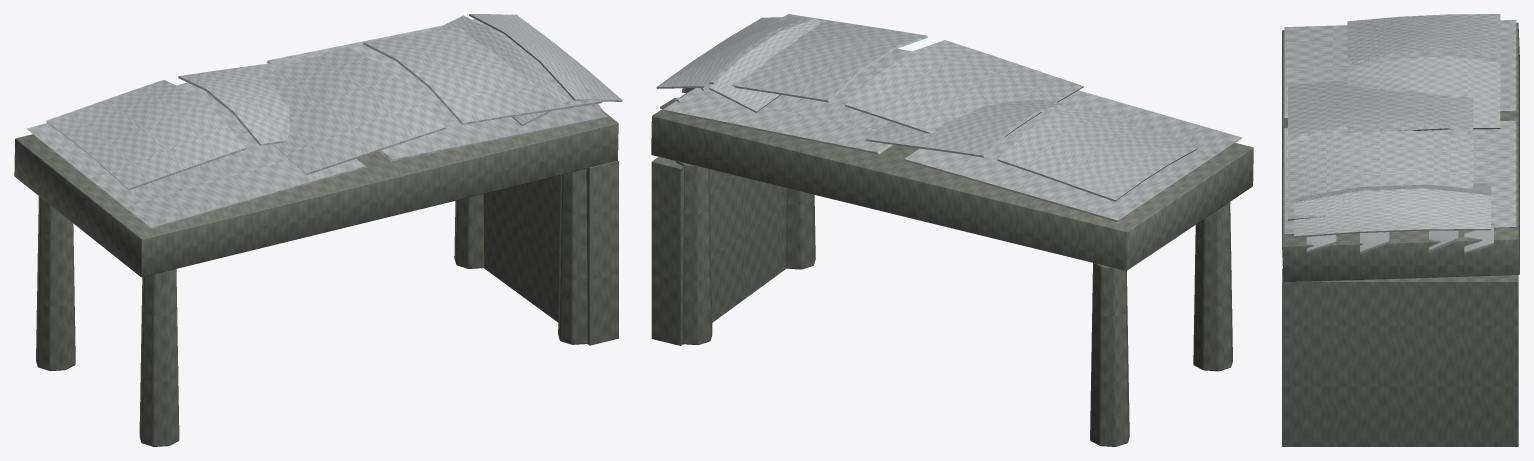
The model's file is gallery.glb.
3 renders of one model, left to right at view 1: azimuth 30°, elevation 25°; view 2: azimuth 150°, elevation 25°; view 3: azimuth 270°, elevation 25°, orthographic. The views are drawn at different scales.
Parts seen in each view (by area): view 1: gallery-heavy-concrete-roof, gallery-donor-snow-heap-0, gallery-roof-snow, gallery-donor-snow-heap-1, gallery-solid-uphill-back, gallery-concrete-pillar.001, gallery-donor-snow-heap-2, gallery-concrete-pillar, gallery-concrete-pillar.003, gallery-concrete-pillar.002; view 2: gallery-heavy-concrete-roof, gallery-donor-snow-heap-0, gallery-roof-snow, gallery-donor-snow-heap-1, gallery-solid-uphill-back, gallery-concrete-pillar, gallery-concrete-pillar.001, gallery-donor-snow-heap-2, gallery-concrete-pillar.002, gallery-concrete-pillar.003; view 3: gallery-solid-uphill-back, gallery-donor-snow-heap-0, gallery-donor-snow-heap-1, gallery-heavy-concrete-roof, gallery-roof-snow, gallery-donor-snow-heap-2, gallery-donor-snow-spill-3, gallery-donor-snow-spill-1, gallery-donor-snow-spill-2, gallery-donor-snow-spill-0.
Boxes of the visible parts, x1,y1,x2,y2 form: gallery-heavy-concrete-roof: (14,109,618,277); gallery-donor-snow-heap-0: (206,23,602,174); gallery-roof-snow: (26,19,607,229); gallery-donor-snow-heap-1: (46,59,298,190); gallery-solid-uphill-back: (483,160,618,345); gallery-concrete-pillar.001: (139,269,179,446); gallery-donor-snow-heap-2: (432,14,622,125); gallery-concrete-pillar: (36,196,75,370); gallery-concrete-pillar.003: (558,169,587,344); gallery-concrete-pillar.002: (454,194,484,268); gallery-heavy-concrete-roof: (651,90,1253,270); gallery-donor-snow-heap-0: (709,14,1083,137); gallery-roof-snow: (663,48,1242,221); gallery-donor-snow-heap-1: (865,99,1197,201); gallery-solid-uphill-back: (651,157,786,345); gallery-concrete-pillar: (1090,263,1129,446); gallery-concrete-pillar.001: (1193,202,1232,371); gallery-donor-snow-heap-2: (656,17,821,112); gallery-concrete-pillar.002: (675,161,712,344); gallery-concrete-pillar.003: (786,188,815,269); gallery-solid-uphill-back: (1282,268,1518,446); gallery-donor-snow-heap-0: (1288,80,1473,220); gallery-donor-snow-heap-1: (1347,14,1500,133); gallery-heavy-concrete-roof: (1282,22,1519,281); gallery-roof-snow: (1284,19,1516,235); gallery-donor-snow-heap-2: (1294,183,1490,237); gallery-donor-snow-spill-3: (1464,223,1493,253); gallery-donor-snow-spill-1: (1360,232,1389,253); gallery-donor-snow-spill-2: (1429,230,1458,252); gallery-donor-snow-spill-0: (1306,234,1336,252).
Bounding box in the file's own units: 13.27 × 6.92 × 6.03.
2 materials, 2 textured.
